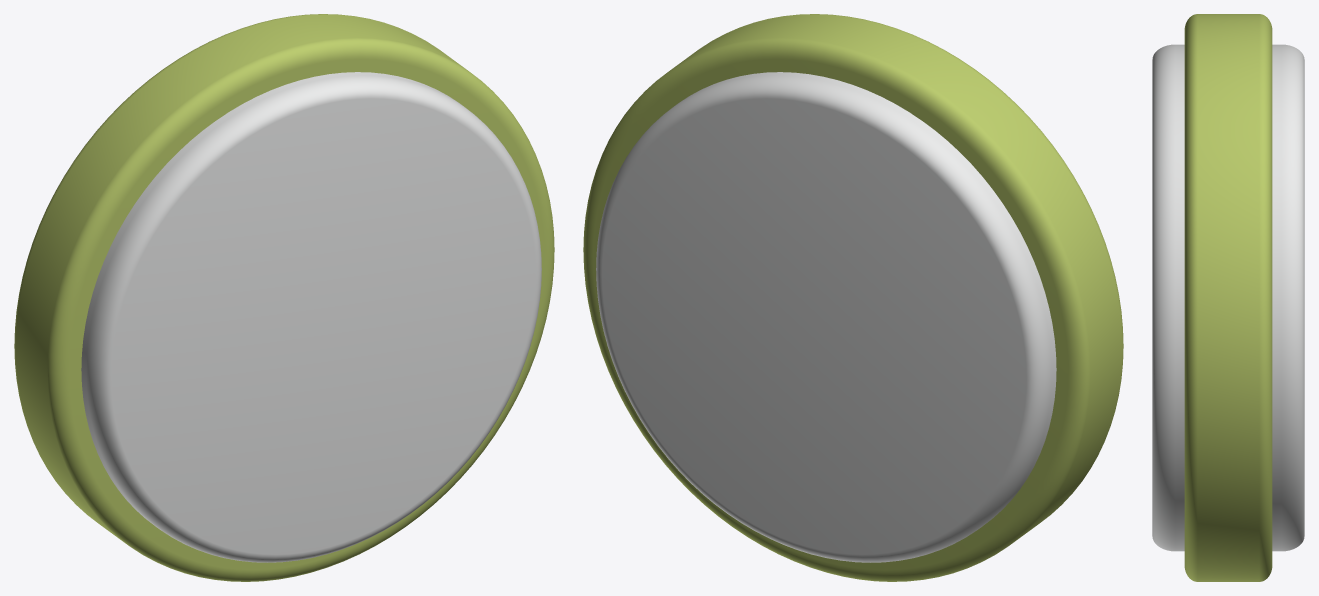
File: BigBee3.gltf
The picture shows the model from 3 angles, left to right: view 1: azimuth 30°, elevation 25°; view 2: azimuth 150°, elevation 25°; view 3: azimuth 270°, elevation 25°; orthographic projection. The views are drawn at different scales.
Parts seen in each view (by area): view 1: Cylinder_2, Cylinder; view 2: Cylinder_2, Cylinder; view 3: Cylinder, Cylinder_2.
Boxes of the visible parts, left/top/right/bottom form: Cylinder_2: left=81, top=72, right=541, bottom=562; Cylinder: left=14, top=14, right=554, bottom=581; Cylinder_2: left=596, top=72, right=1056, bottom=562; Cylinder: left=583, top=14, right=1123, bottom=581; Cylinder: left=1184, top=14, right=1272, bottom=581; Cylinder_2: left=1152, top=44, right=1304, bottom=551.
Bounding box in the file's own units: 11.4 × 11.39 × 3.05.
